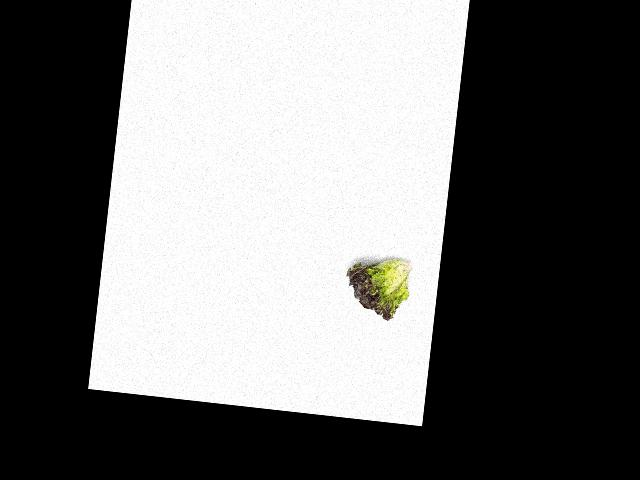lettuce: (338, 253, 415, 321)
